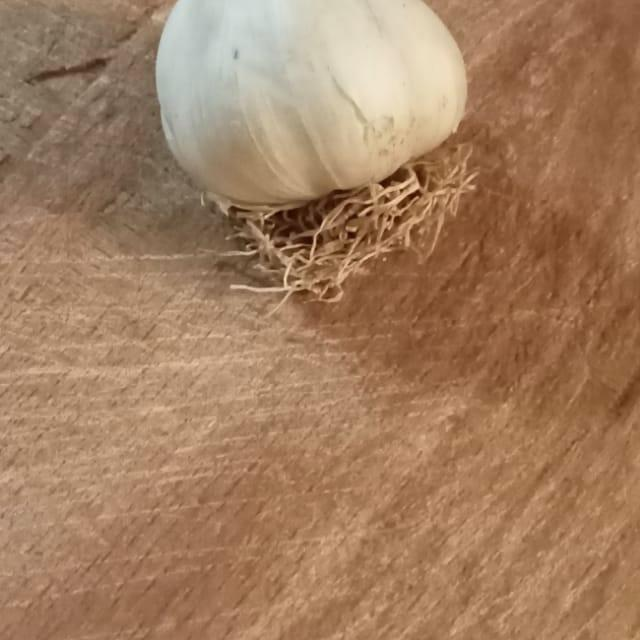garlic: (128, 0, 508, 306)
